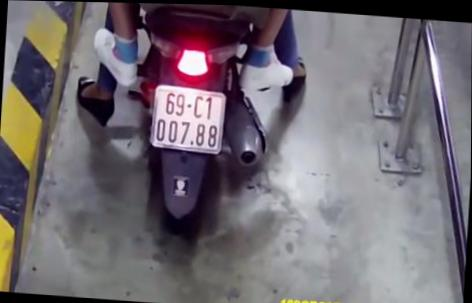LP: (149, 81, 228, 154)
